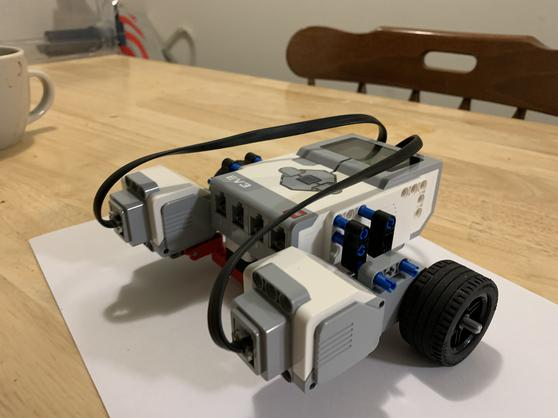robot: (78, 107, 504, 396)
